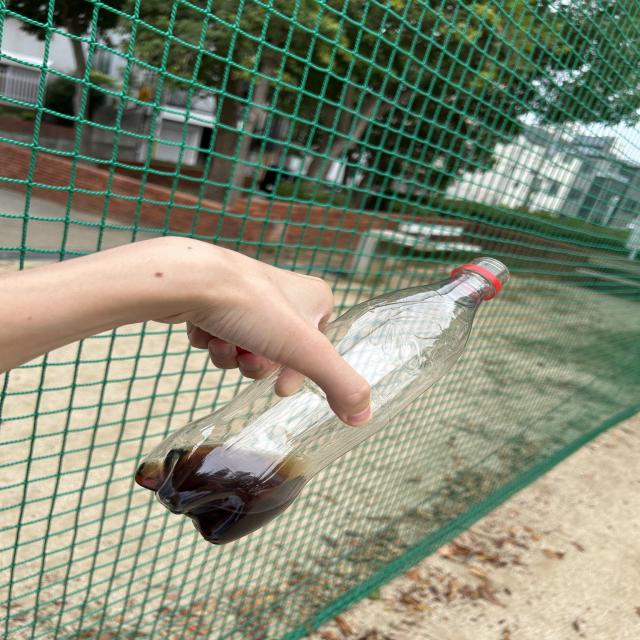low: (135, 258, 508, 544)
